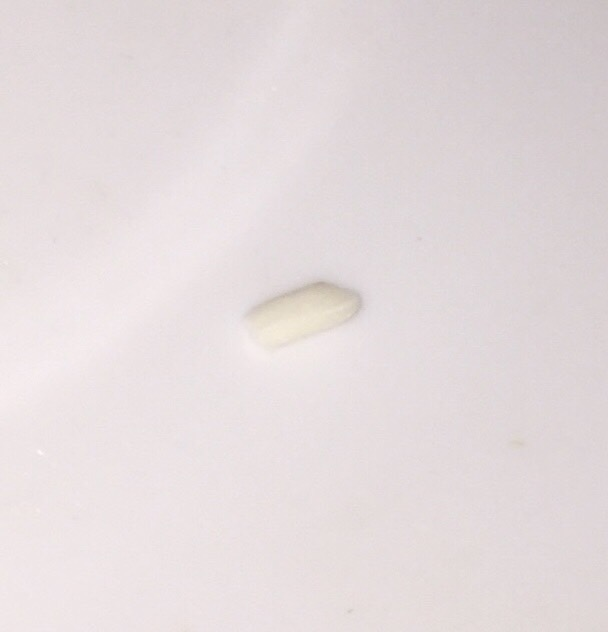Gao Nep Sap: (232, 271, 372, 349)
